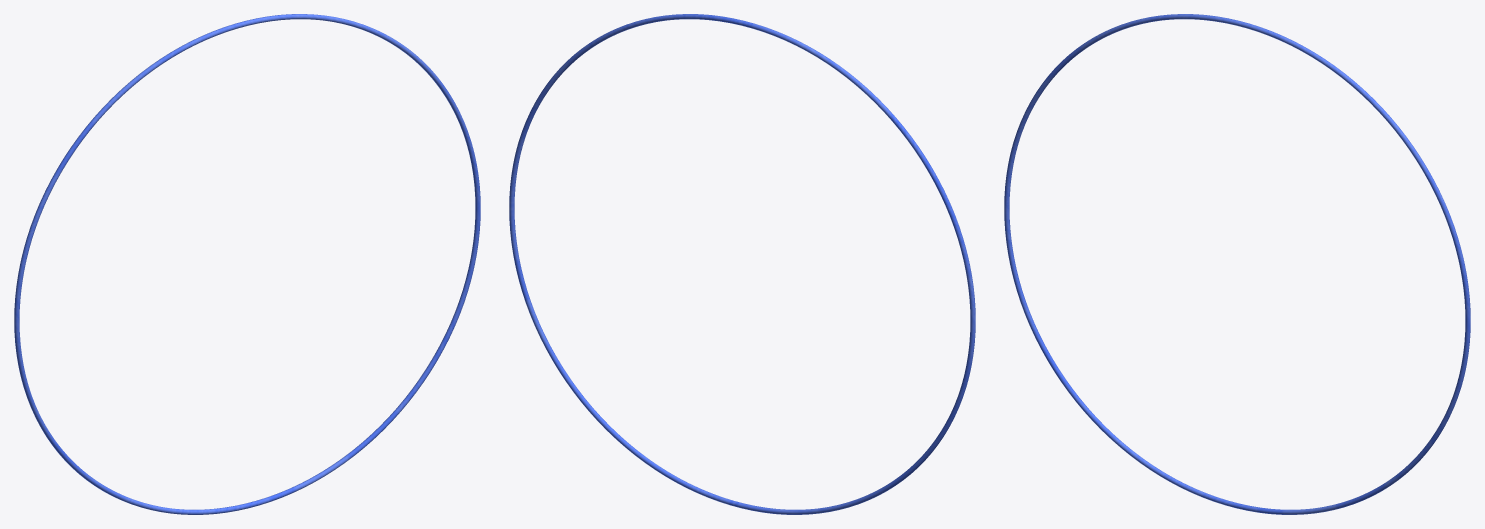
File: LRing_Blue.glb
3 views of the same model, side by side, from view 1: azimuth 30°, elevation 25°; view 2: azimuth 150°, elevation 25°; view 3: azimuth 330°, elevation 25° (orthographic).
Parts seen in each view (by area): view 1: RingS.obj; view 2: RingS.obj; view 3: RingS.obj.
Part boxes in pixels (x1,y1,x2,y2): RingS.obj: (14, 14, 480, 514); RingS.obj: (509, 14, 975, 514); RingS.obj: (1004, 14, 1470, 514).
Size of the model in its own units: 7.95 by 7.95 by 0.0761.
Materials: 1 (1 with a texture image).
